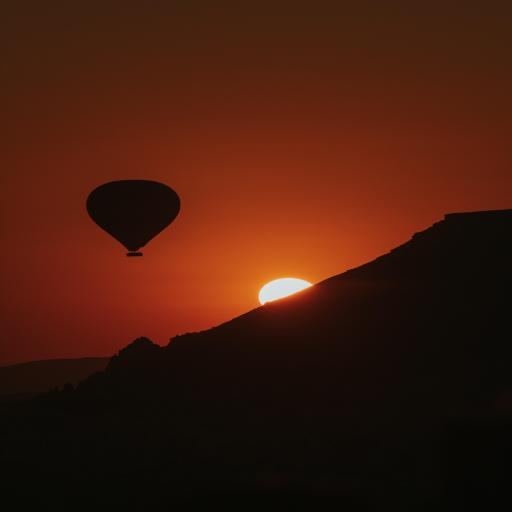hot air ballon: (86, 180, 181, 257)
